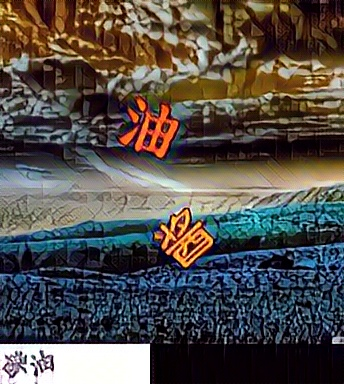BDB4: (151, 205, 214, 272)
D3CD: (118, 91, 181, 158)
